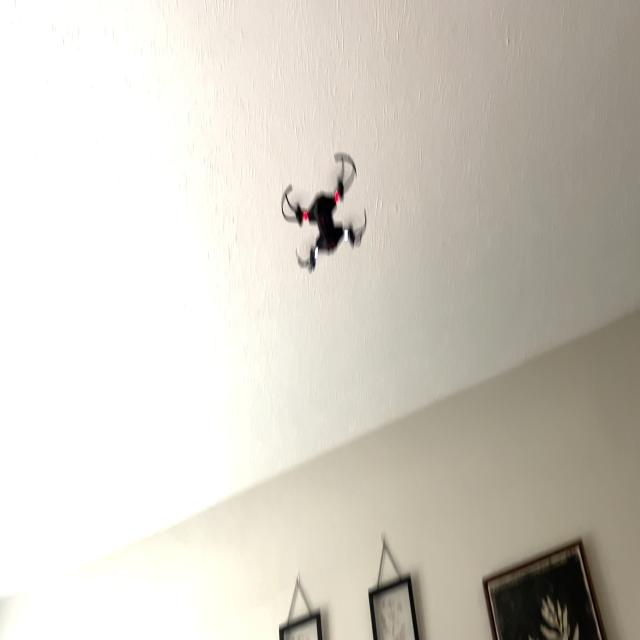drone: (271, 144, 378, 293)
